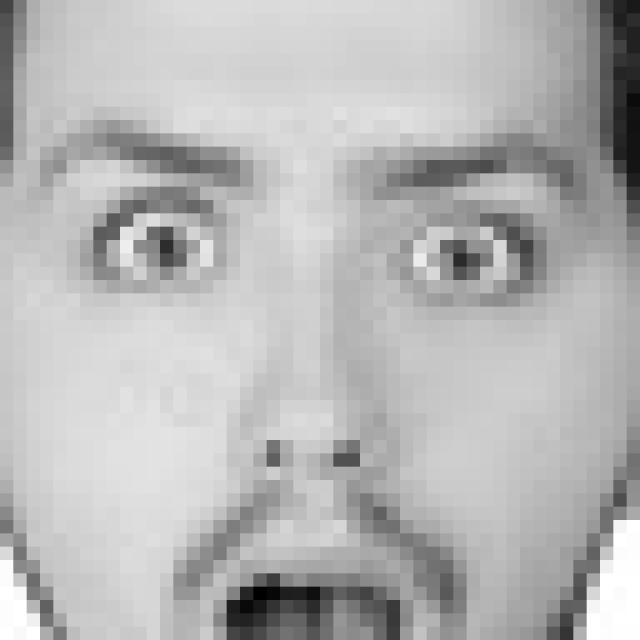surprise: (27, 110, 587, 640)
